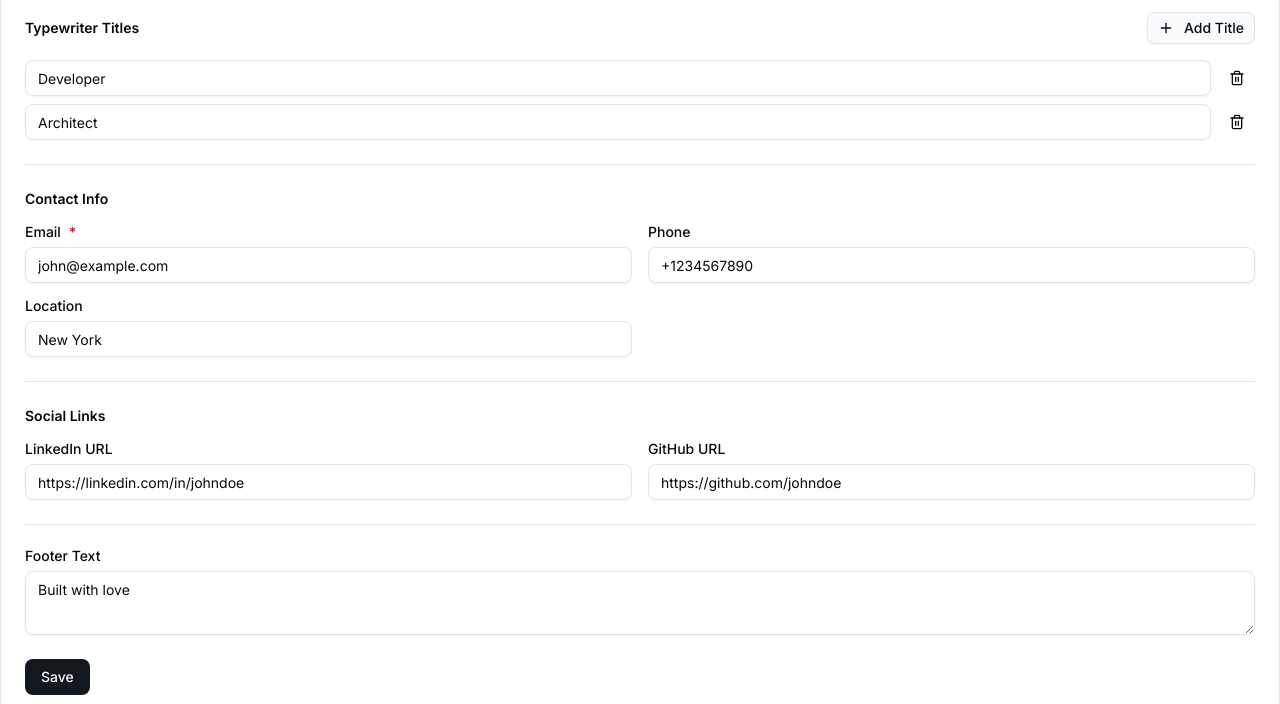
Test case: ProfileForm › displays error when general save fails
(page scrolled)
Click the button "Save" at (57, 677), box x1=25 y1=659 x2=90 y2=695
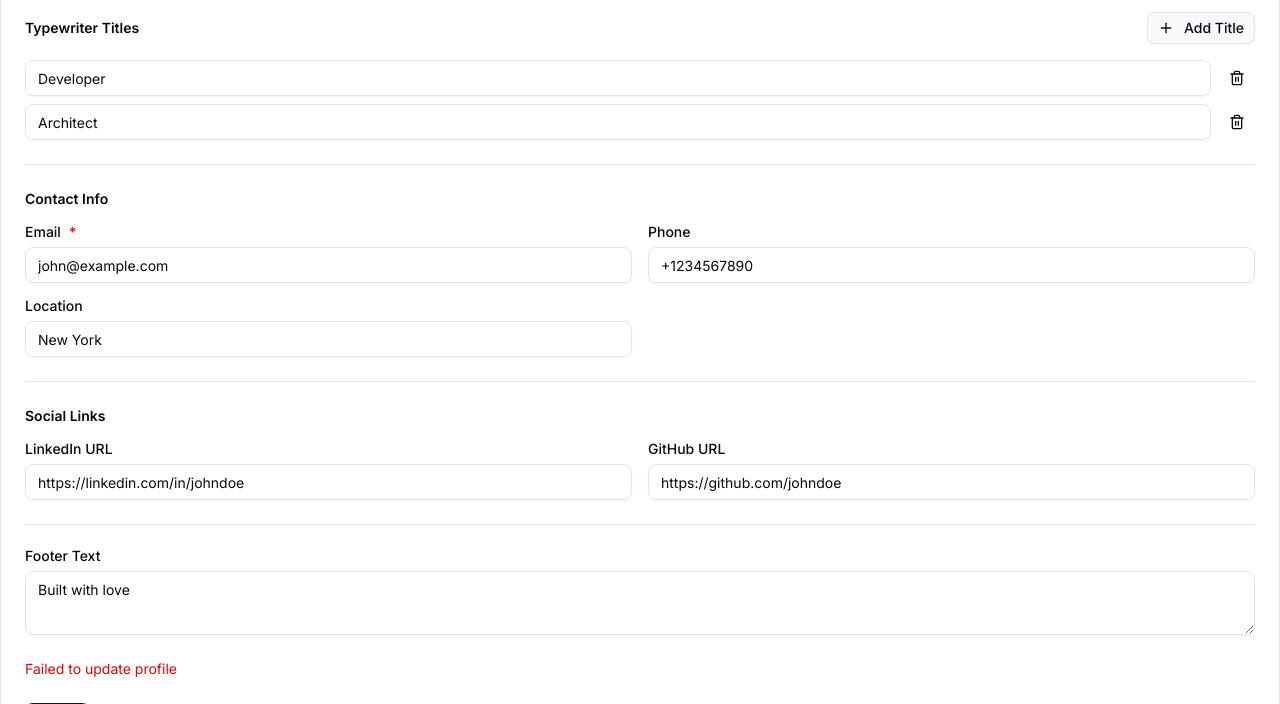
Result: the text "Failed to update profile" is shown at x1=25 y1=660 x2=177 y2=677
